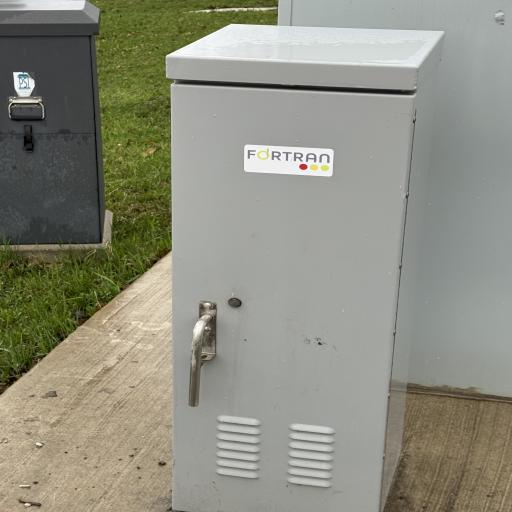Electrical Box: (164, 19, 447, 512), (273, 3, 512, 405), (0, 0, 103, 249)
